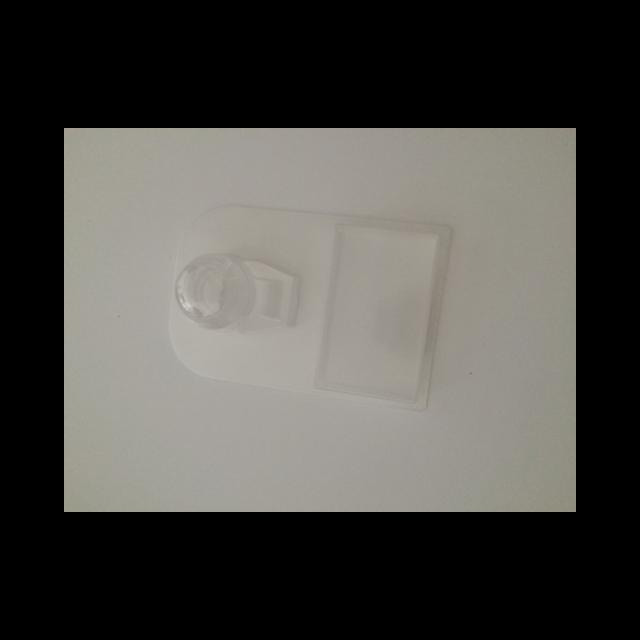plastic: (166, 204, 450, 411)
